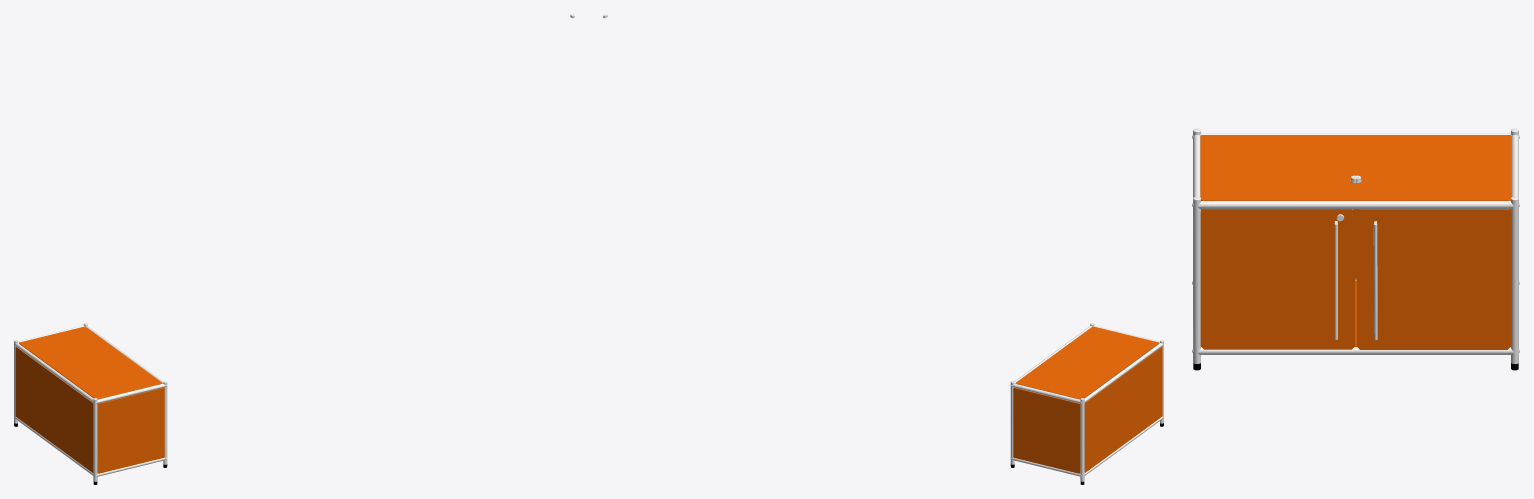
Rendered from 80x40x40-1-7-Orange_optimized_optimized.glb.
The picture shows the model from 3 angles, left to right: view 1: azimuth 30°, elevation 25°; view 2: azimuth 150°, elevation 25°; view 3: azimuth 270°, elevation 25°; orthographic projection. The views are drawn at different scales.
Visible parts, largest first — view 1: 直角鐵板-80x40-5 - 零件, 內塞-1 - 零件; view 2: 直角鐵板-80x40-5 - 零件, 內塞-1 - 零件; view 3: 直角鐵板-80x40-5 - 零件, 內塞-1 - 零件.
Boxes of the visible parts, <box> form: 直角鐵板-80x40-5 - 零件: <box>15,326,164,473</box>; 內塞-1 - 零件: <box>14,14,574,481</box>; 直角鐵板-80x40-5 - 零件: <box>1013,326,1162,473</box>; 內塞-1 - 零件: <box>603,14,1163,481</box>; 直角鐵板-80x40-5 - 零件: <box>1200,135,1511,349</box>; 內塞-1 - 零件: <box>1192,128,1519,363</box>.
Size of the model in its own units: 2.83 by 1.64 by 0.7732.
